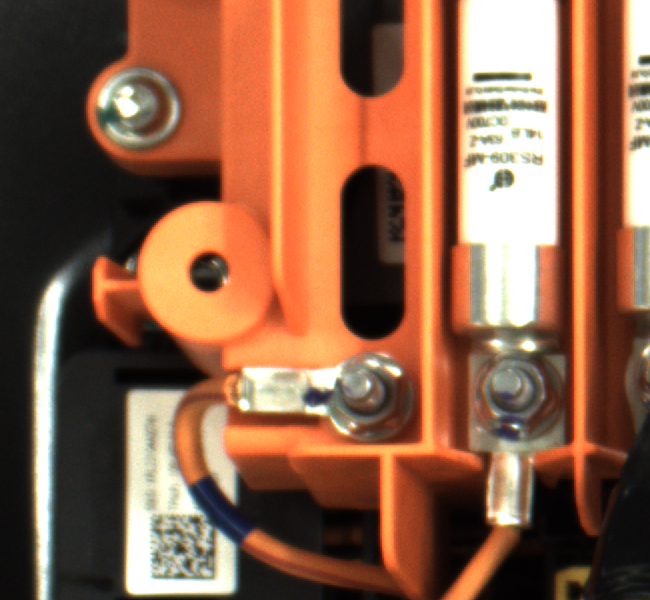screw_m: (82, 58, 195, 162)
screw_s: (468, 348, 562, 442), (313, 352, 412, 435)
